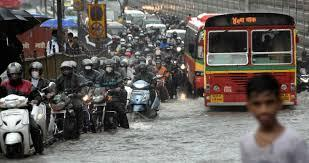helmet: (6, 62, 23, 85), (28, 61, 44, 79), (103, 58, 116, 74), (61, 61, 74, 76), (81, 58, 93, 71), (137, 62, 147, 75)
nohelmet: (246, 74, 281, 130)
